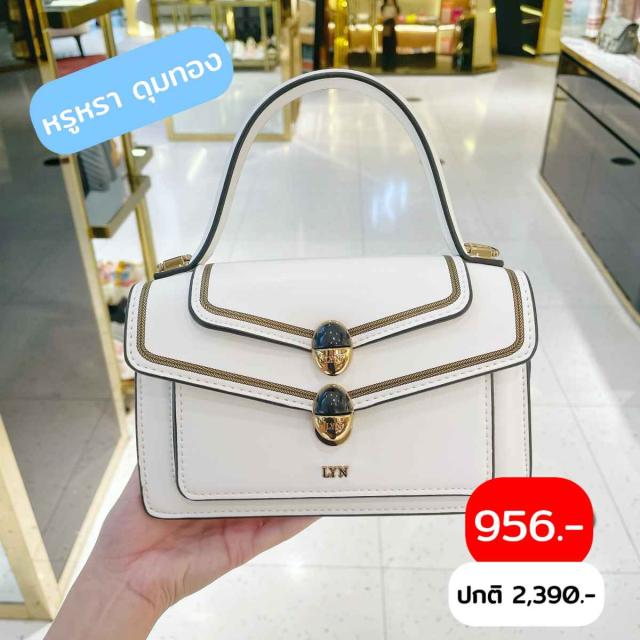Handbag: (86, 242, 542, 534)
